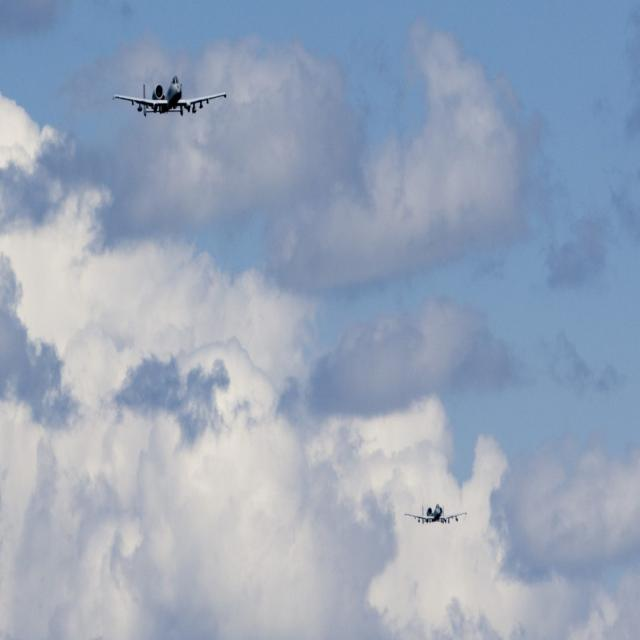MIL_Plane: (112, 75, 227, 117), (404, 503, 467, 524)
